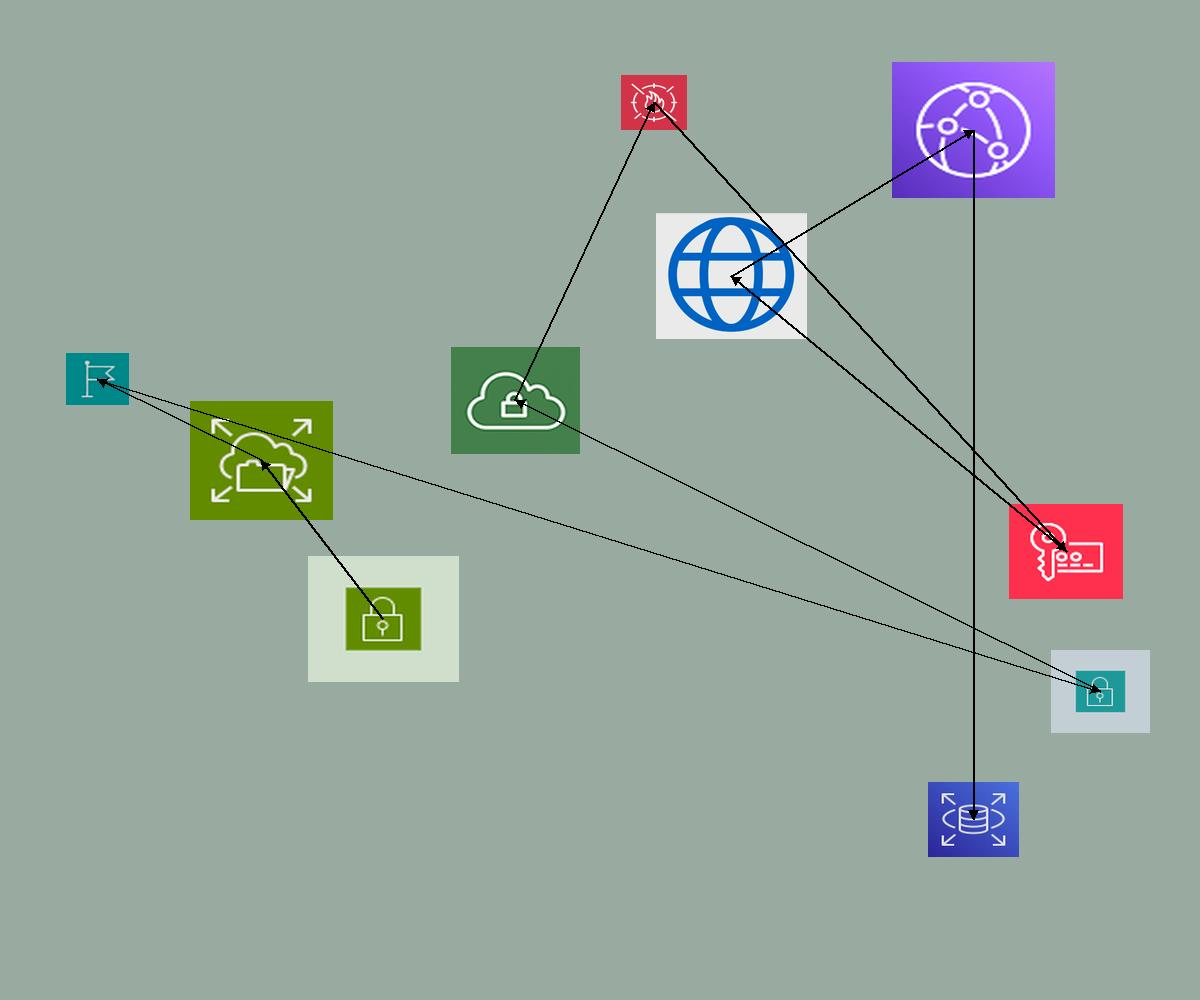AWS-CloudFront: (892, 62, 1055, 198)
AWS-EFS: (190, 401, 333, 520)
AWS-Key-Management-Service: (1009, 504, 1123, 599)
AWS-Private-subnet: (1051, 650, 1150, 733)
AWS-Private_vpc: (451, 347, 580, 454)
AWS-Public-subnet: (308, 556, 459, 682)
AWS-RDS: (928, 782, 1019, 857)
AWS-Region: (66, 353, 129, 405)
AWS-WAF: (621, 75, 687, 130)
Azure_http: (656, 213, 807, 339)
